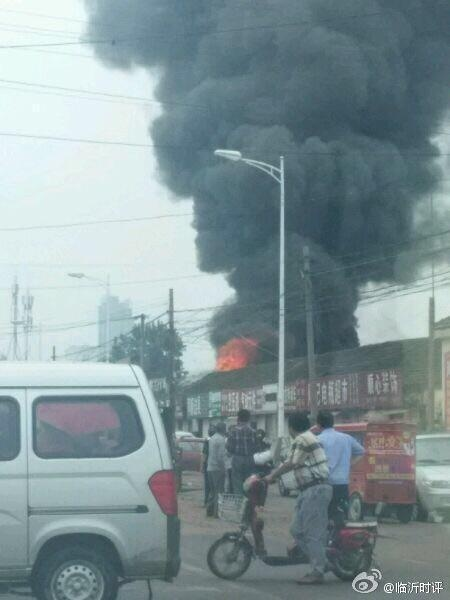fire: (214, 339, 253, 372)
